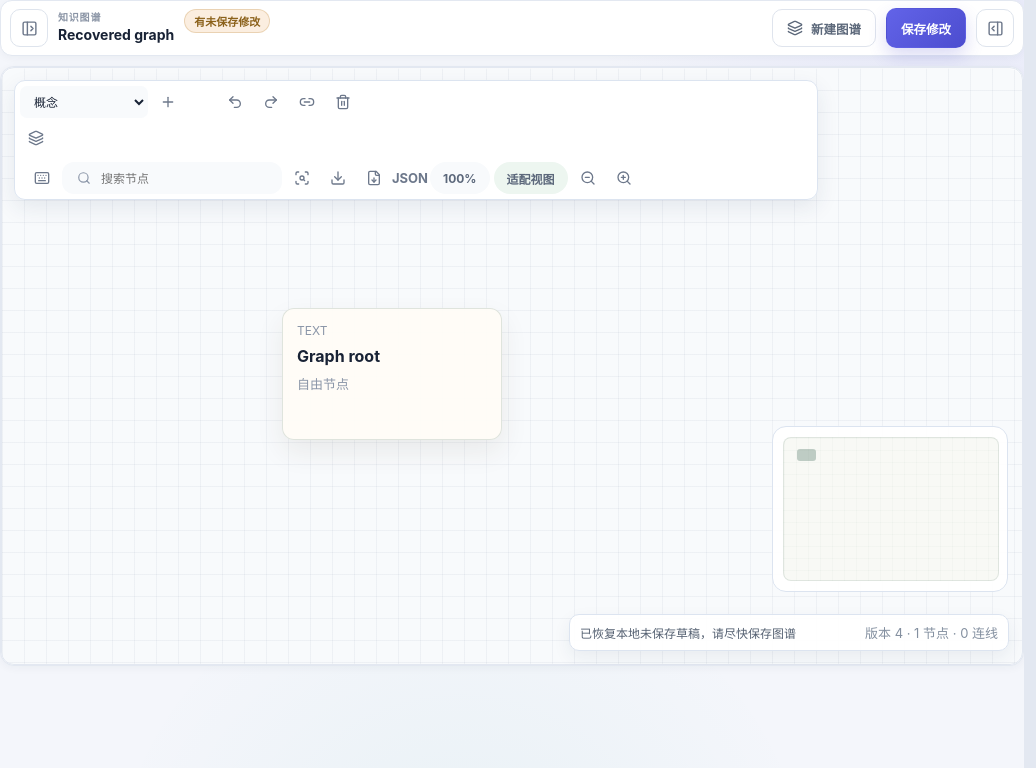
Scenario: GraphWorkspacePage conflict dependency guard › can clear latest-head multi-target edge blockers with scope-aware linked suggestions
Click the button "保存修改" at (926,28), box [886,8,966,48]
(page scrolled)
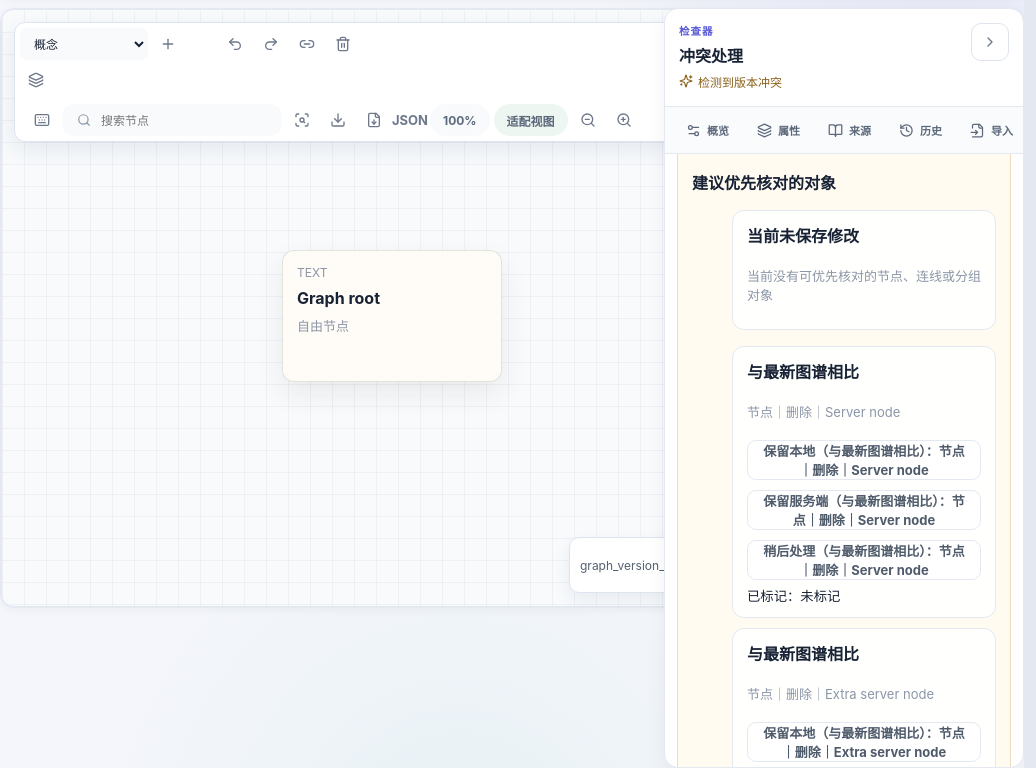
Click the button "保留本地（与最新图谱相比）：节点｜删除｜Server node" at (864,460), box [747,440,981,480]
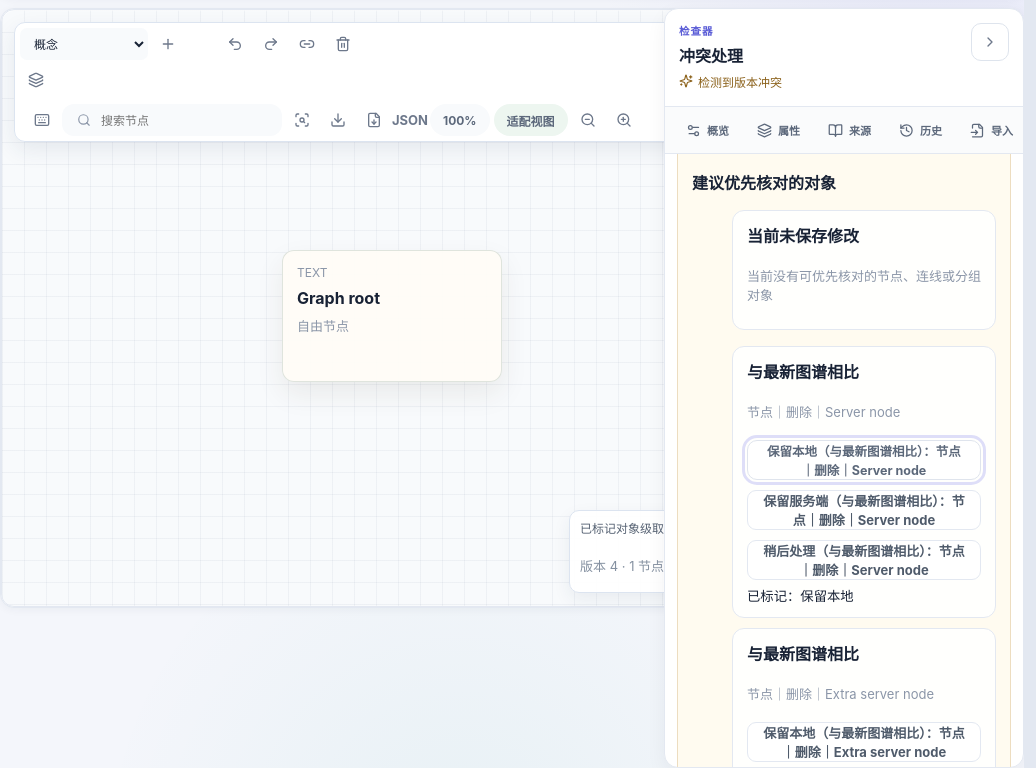
Click the button "保留本地（与最新图谱相比）：节点｜删除｜Extra server node" at (864,742), box [747,722,981,762]
(page scrolled)
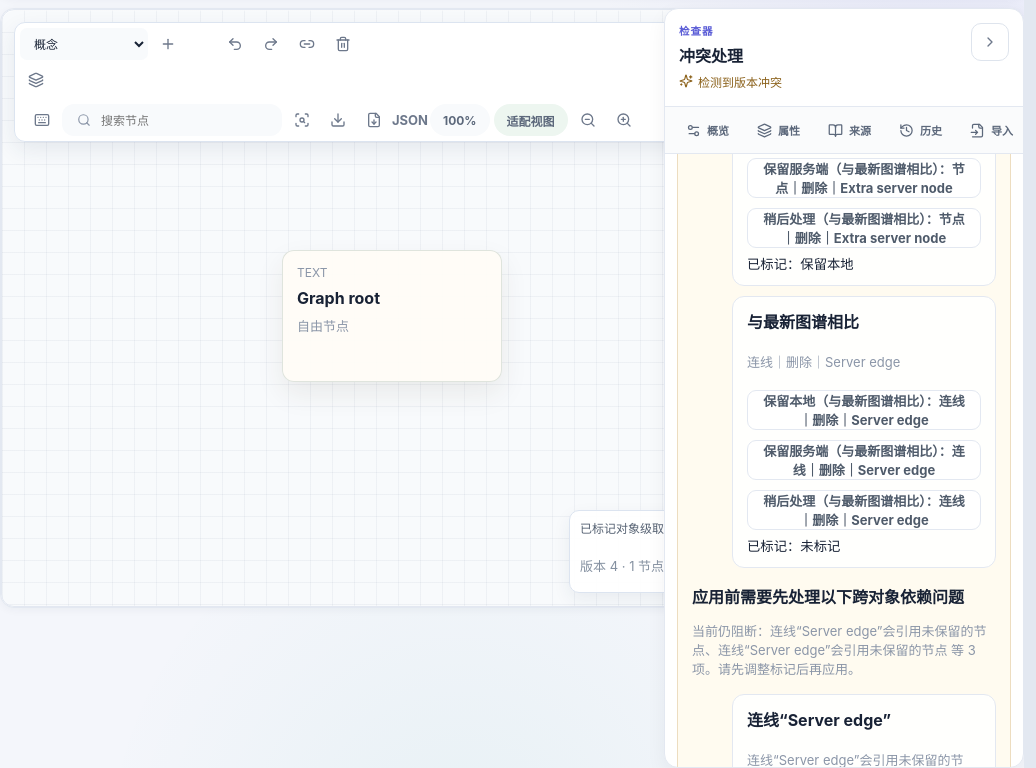
Click the button "保留服务端（与最新图谱相比）：连线｜删除｜Server edge" at (864,460), box [747,440,981,480]
(page scrolled)
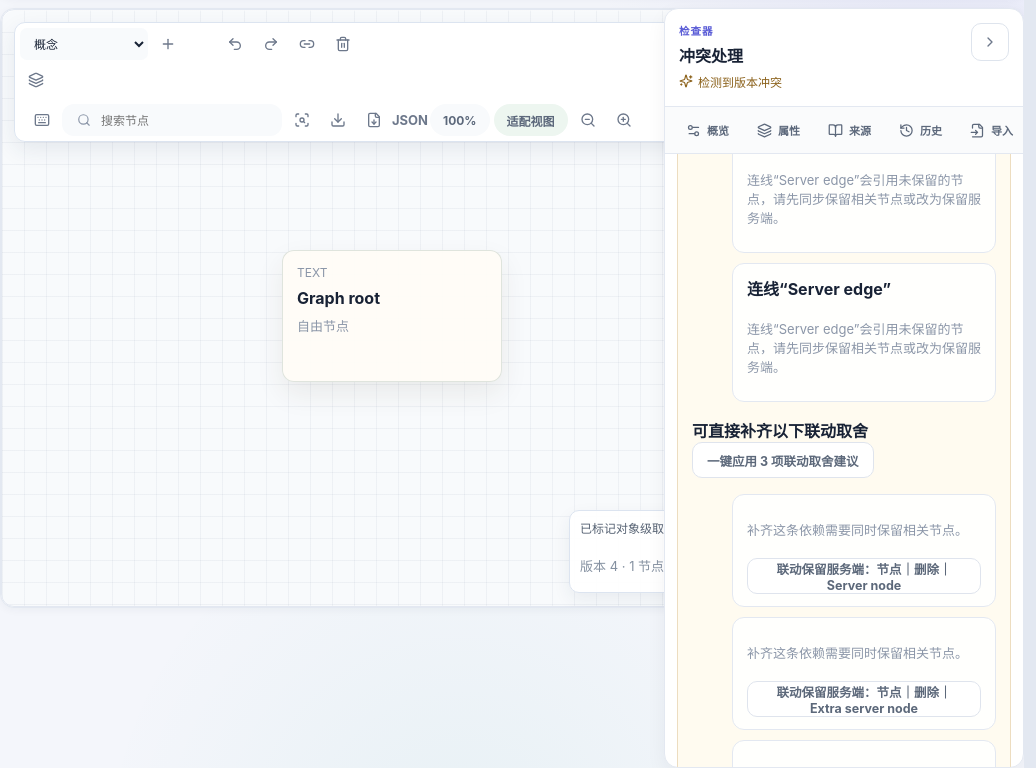
Check: the button "联动保留服务端：节点｜删除｜Server node" is shown, box [747,558,981,594]
Check: the button "联动保留服务端：节点｜删除｜Extra server node" is shown, box [747,681,981,717]
Click the button "一键应用 3 项联动取舍建议" at (783,460), box [692,442,874,478]
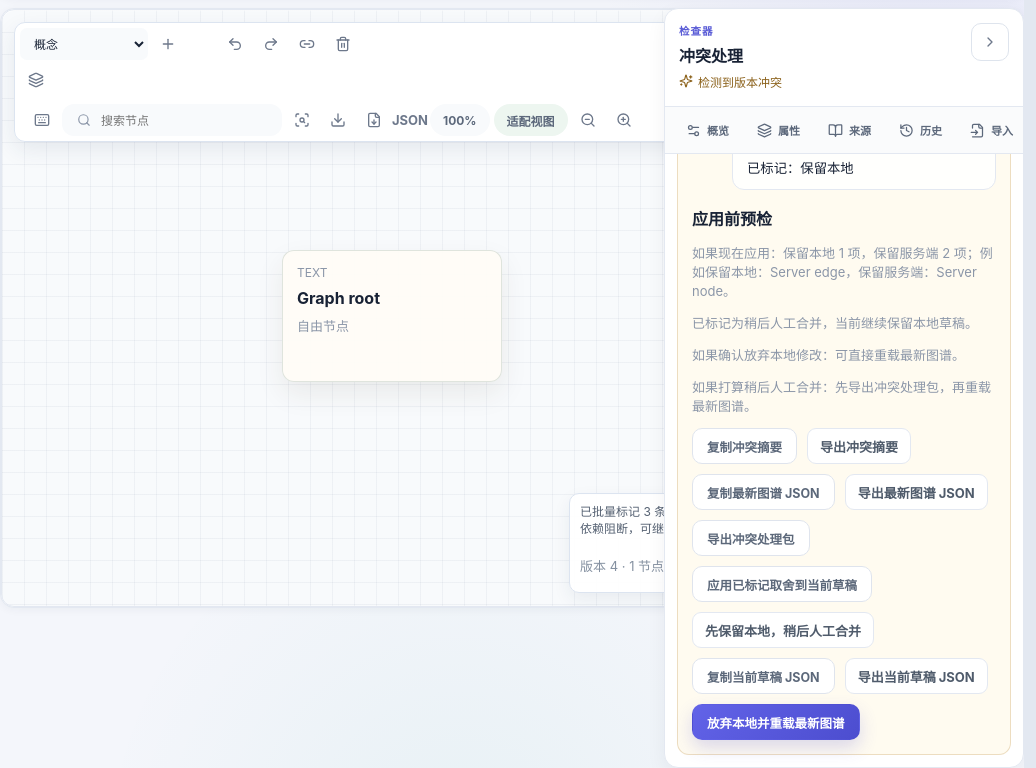
Check: the button "应用已标记取舍到当前草稿" is enabled, box [692,566,872,602]
